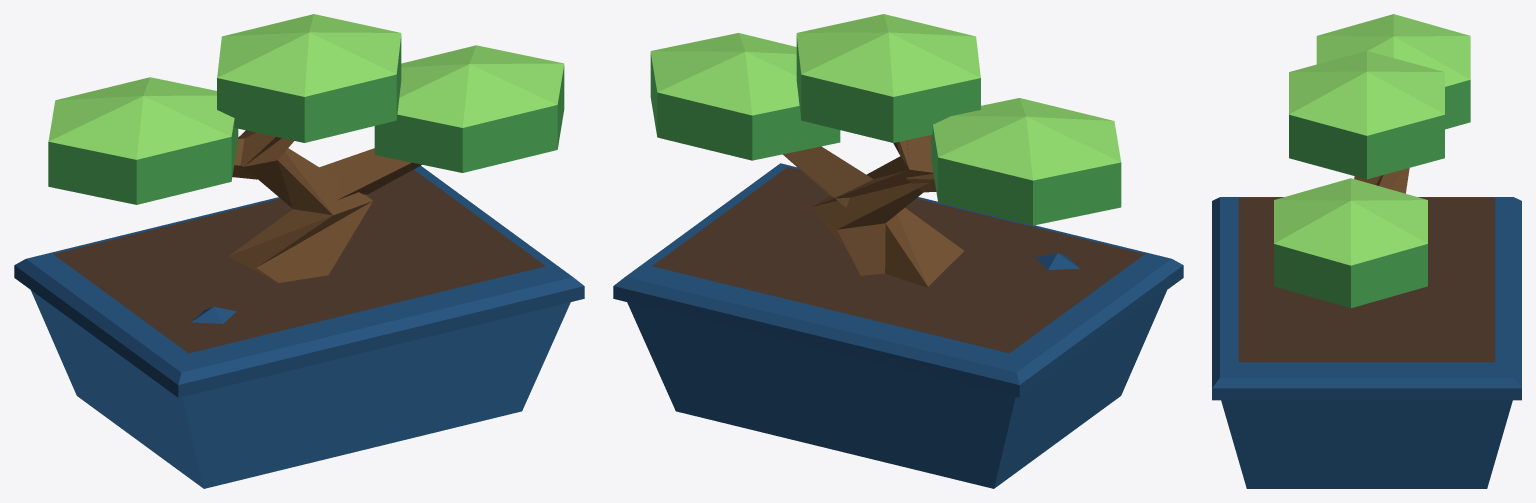
Rendered from bonsai.glb.
The picture shows the model from 3 angles, left to right: view 1: azimuth 30°, elevation 25°; view 2: azimuth 150°, elevation 25°; view 3: azimuth 270°, elevation 25°; orthographic projection. The views are drawn at different scales.
Parts seen in each view (by area): view 1: bonsai; view 2: bonsai; view 3: bonsai.
Part boxes in pixels (box(x1,y1,x2,y2)): bonsai: box(14, 14, 584, 488); bonsai: box(613, 14, 1183, 488); bonsai: box(1212, 14, 1521, 488).
Size of the model in its own units: 0.2016 by 0.144 by 0.116.
